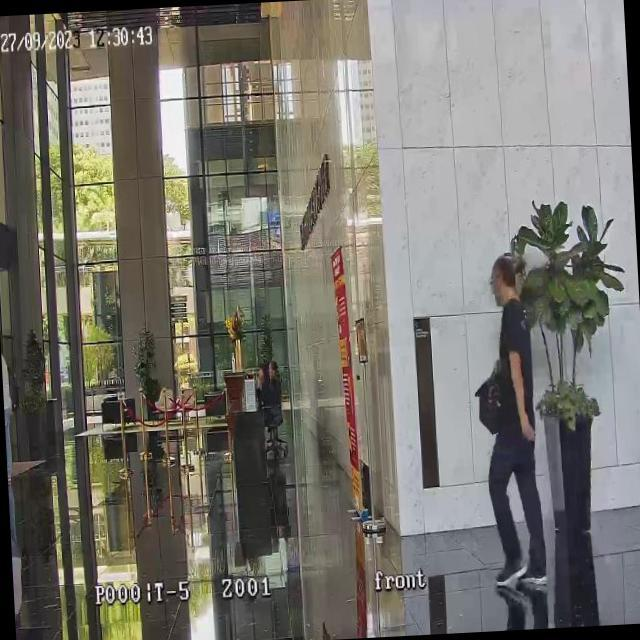person: (469, 252, 548, 594), (1, 350, 16, 487), (254, 363, 278, 417), (268, 361, 280, 388)
